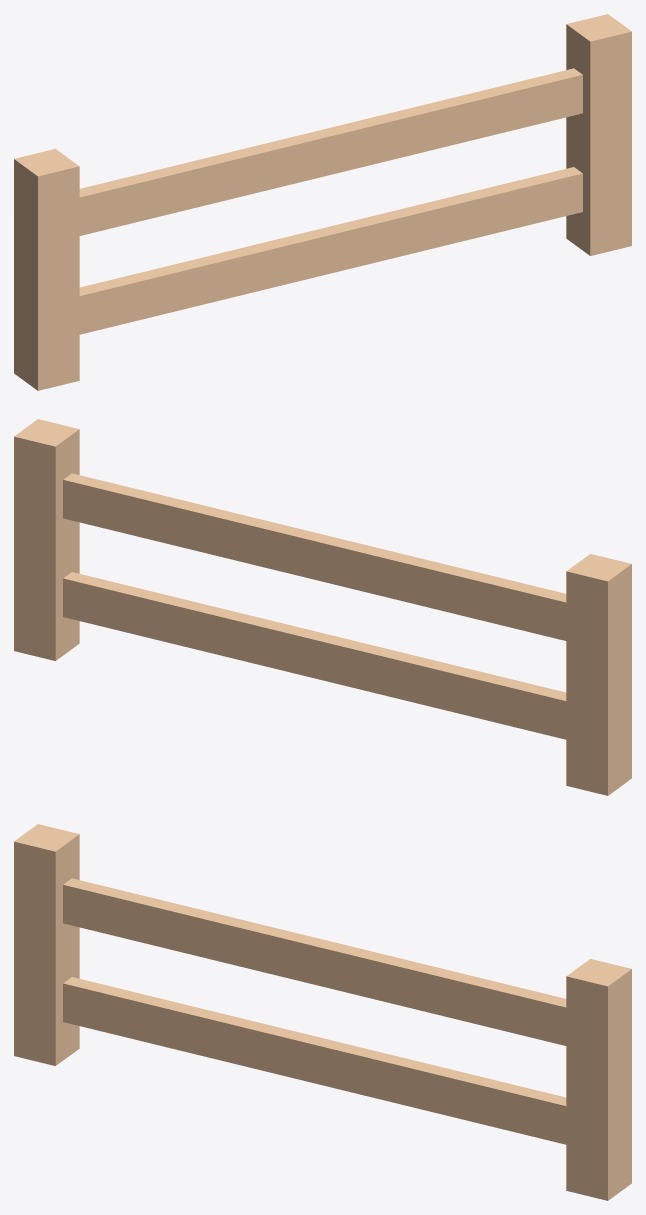
File: fence.glb
3 views of the same model, one above another, from view 1: azimuth 30°, elevation 25°; view 2: azimuth 150°, elevation 25°; view 3: azimuth 330°, elevation 25° (orthographic).
Visible parts, largest first — view 1: fence; view 2: fence; view 3: fence.
Boxes of the visible parts, x1=… form: fence: x1=14, y1=14, x2=631, y2=390; fence: x1=14, y1=419, x2=631, y2=795; fence: x1=14, y1=824, x2=631, y2=1200.
Bounding box in the file's own units: 1 × 0.345 × 0.07.
